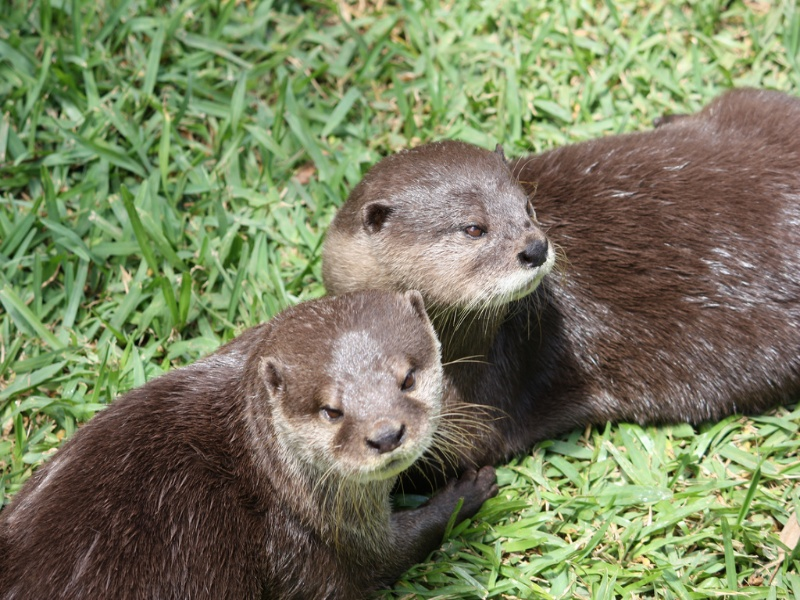minkish: (324, 86, 800, 422), (12, 275, 449, 600)
